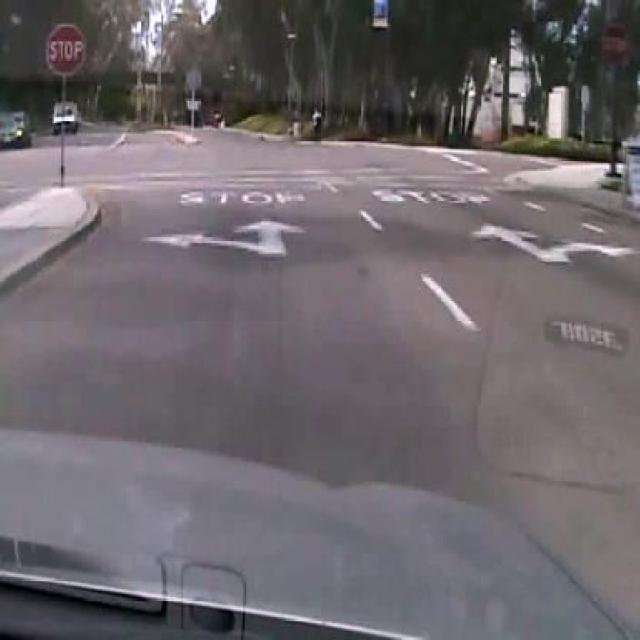Stop: (44, 21, 88, 79)
